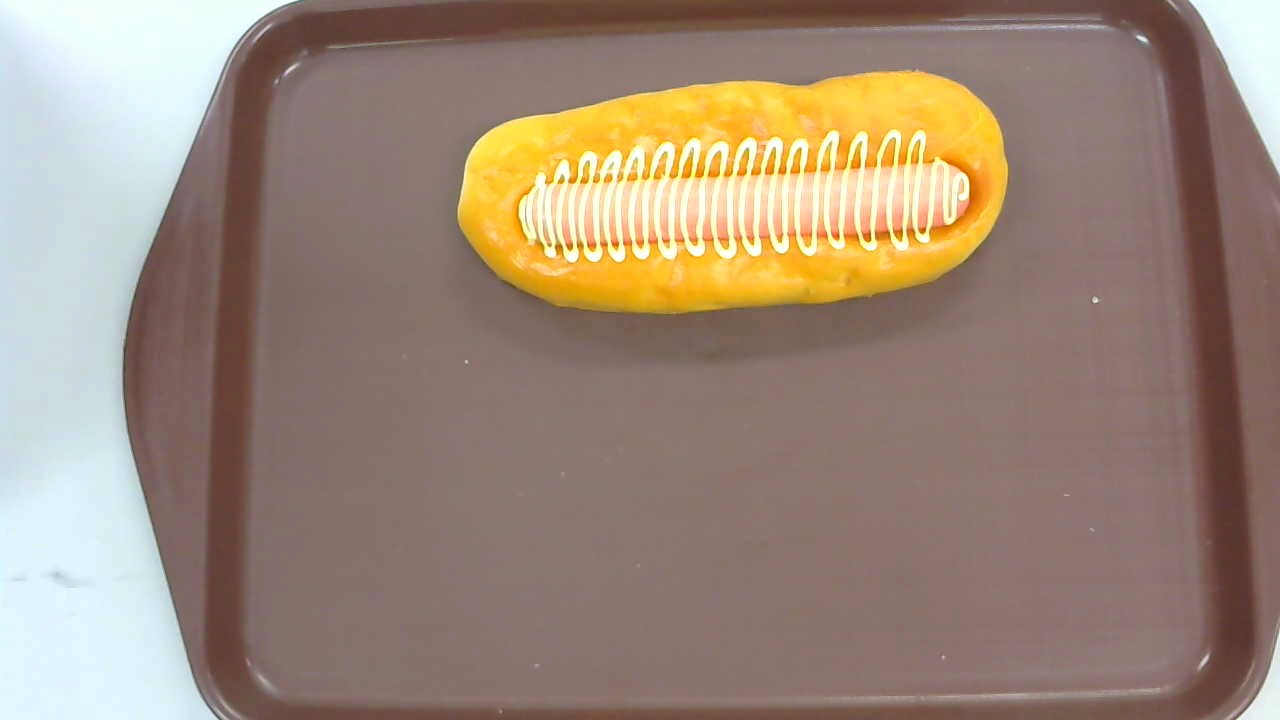hot dog: (457, 68, 1008, 316)
